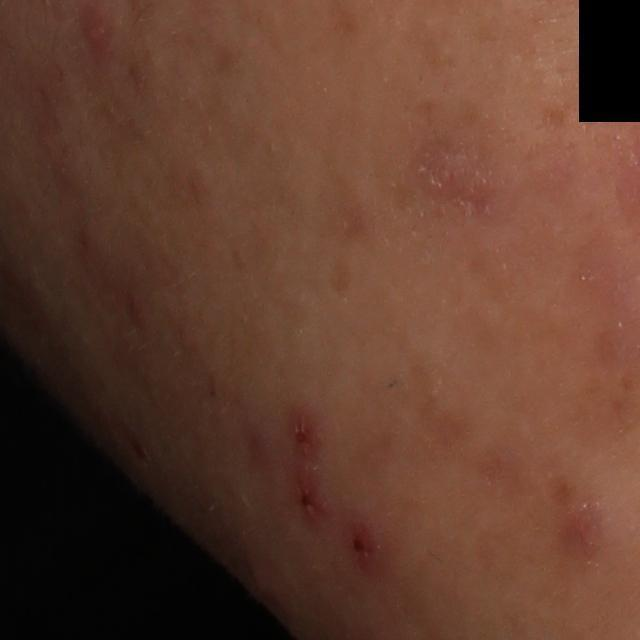papule: (554, 481, 611, 555), (75, 3, 120, 64), (341, 523, 377, 575), (293, 473, 328, 515), (291, 409, 317, 464)
